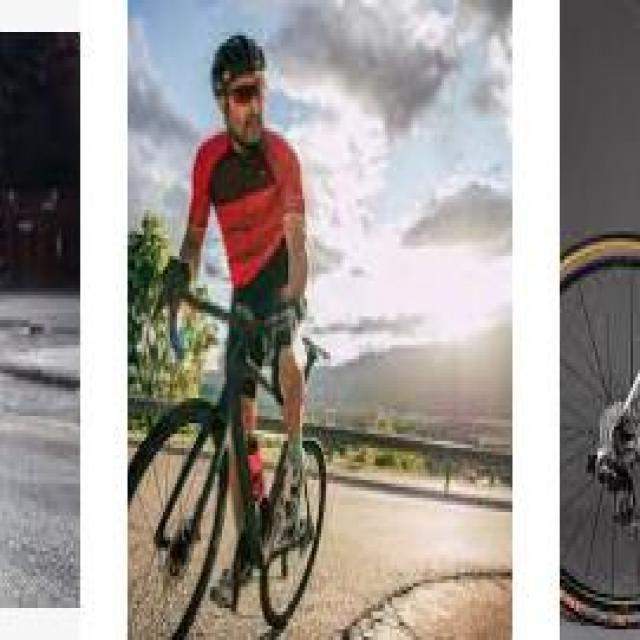bicycle: (131, 289, 329, 640)
